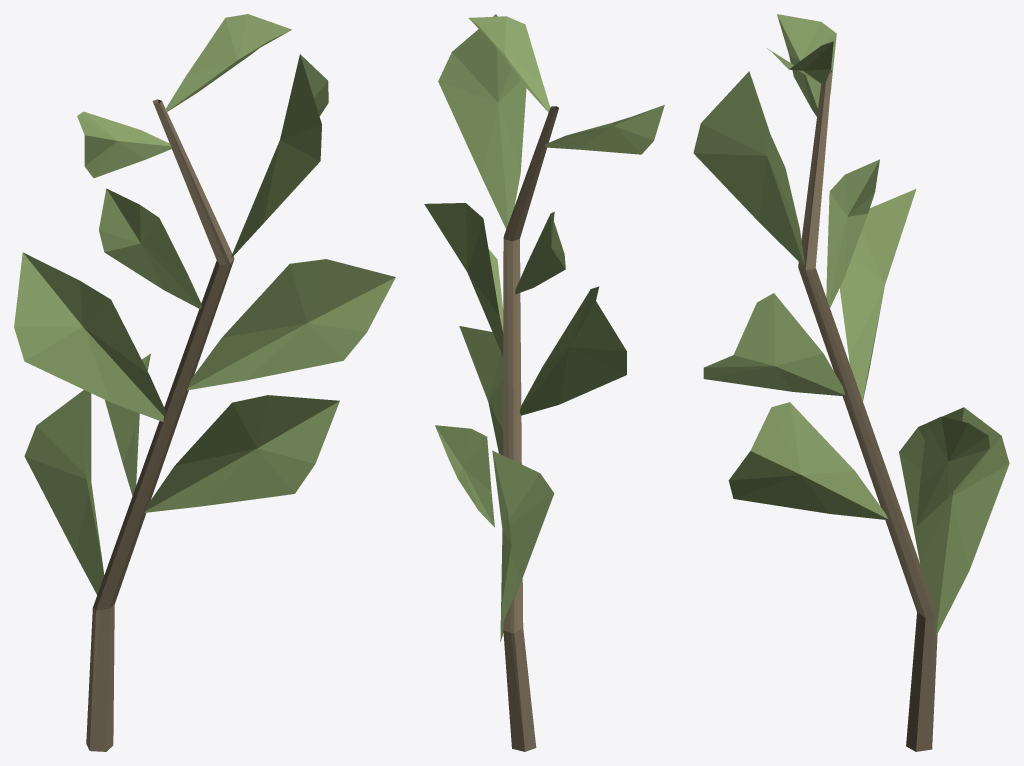
The model's file is Peach_1_1.fbx.
3 views of the same model, side by side, from view 1: azimuth 30°, elevation 25°; view 2: azimuth 150°, elevation 25°; view 3: azimuth 270°, elevation 25° (orthographic). The views are drawn at different scales.
Parts seen in each view (by area): view 1: Peach_1_1; view 2: Peach_1_1; view 3: Peach_1_1.
Boxes of the visible parts, x1,y1,x2,y2 form: Peach_1_1: (14,14,395,751); Peach_1_1: (424,14,664,751); Peach_1_1: (693,14,1009,751).
Size of the model in its own units: 39.87 by 93.27 by 35.65.
